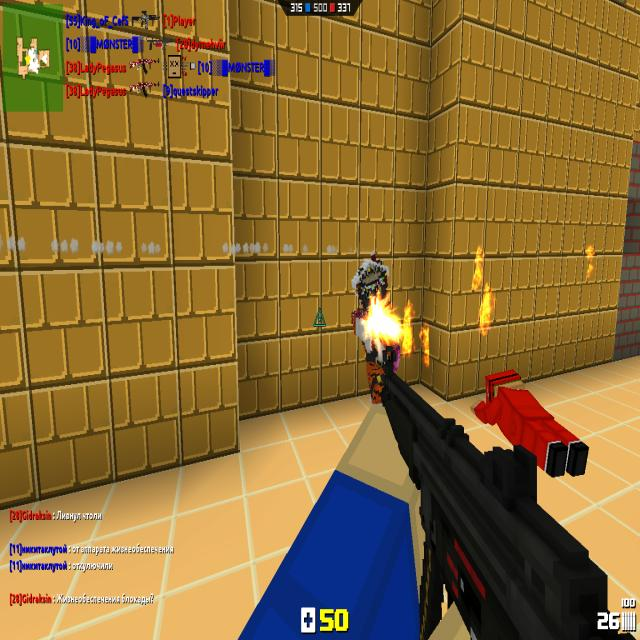enemy: (350, 249, 400, 405)
